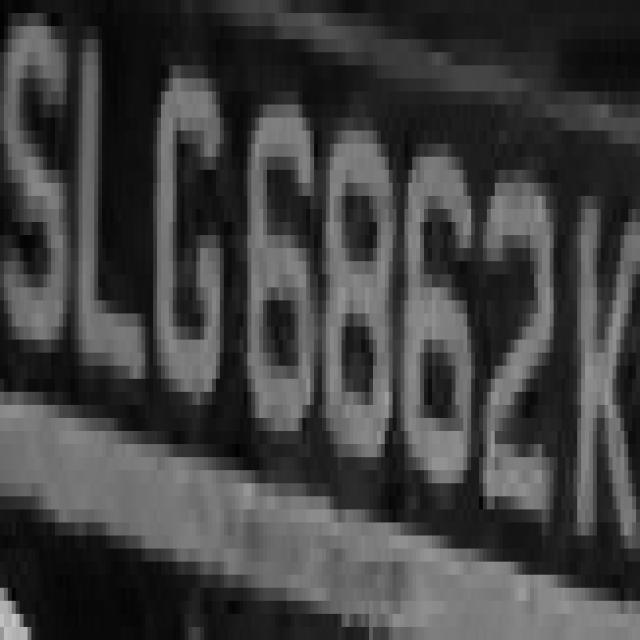2: (475, 156, 558, 548)
6: (232, 26, 322, 523), (401, 65, 479, 562)
8: (314, 78, 401, 510)
G: (149, 39, 236, 483)
K: (562, 117, 636, 627)
L: (79, 39, 145, 418)
S: (4, 39, 82, 405)
